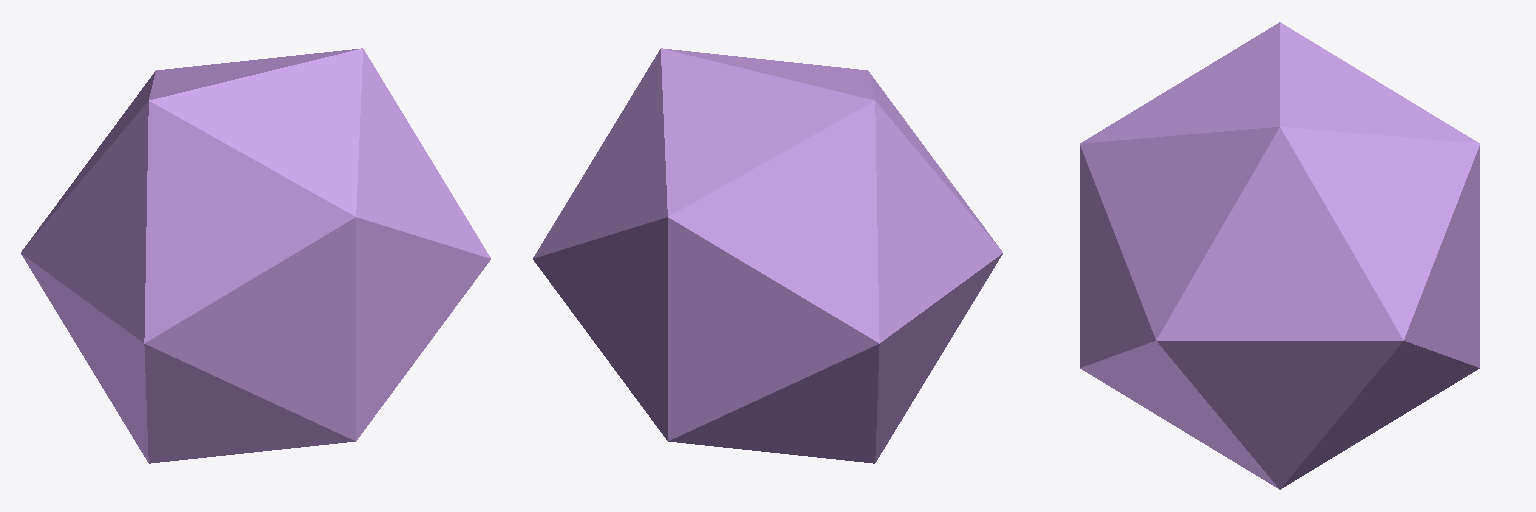
File: starparticle2.obj
The picture shows the model from 3 angles: view 1: azimuth 30°, elevation 25°; view 2: azimuth 150°, elevation 25°; view 3: azimuth 270°, elevation 25°; orthographic projection.
Parts seen in each view (by area): view 1: Platonic; view 2: Platonic; view 3: Platonic.
Boxes of the visible parts, x1,y1,x2,y2 form: Platonic: [21, 48, 490, 463]; Platonic: [533, 48, 1002, 463]; Platonic: [1080, 22, 1479, 489].
Bounding box in the file's own units: 18.61 × 18.61 × 18.61.